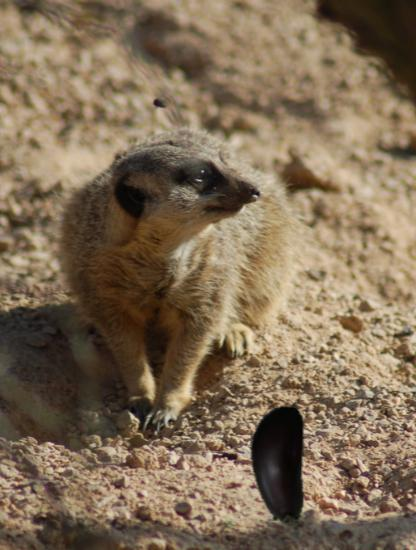Eggplant: (213, 403, 342, 532)
